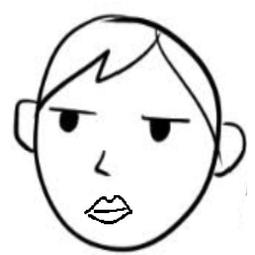cupid_mouth: (82, 191, 136, 230)
ear: (213, 115, 247, 180), (6, 97, 39, 151)
eye: (138, 111, 191, 144), (51, 99, 97, 133)
pointy_nose: (86, 146, 116, 178)
